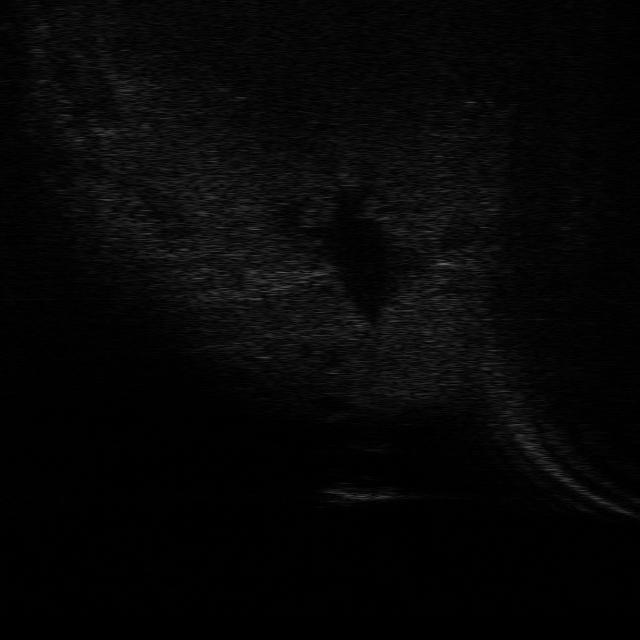cube: (316, 478, 409, 506)
